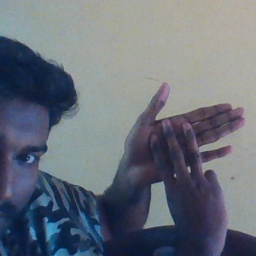M: (119, 82, 249, 227)
